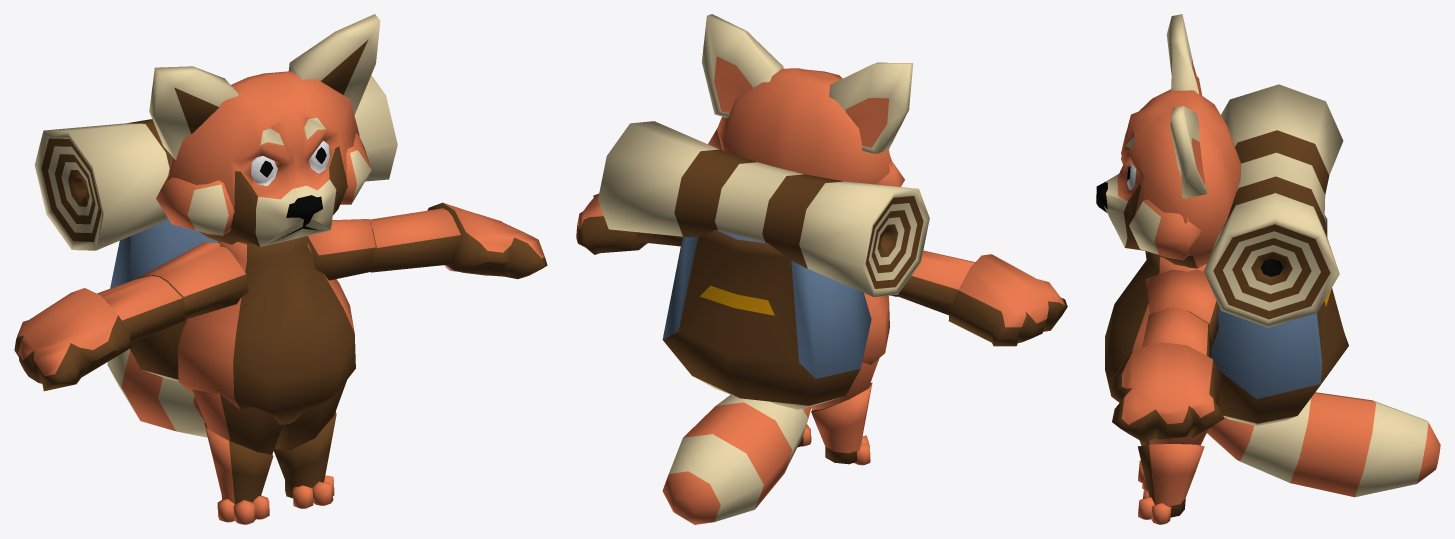
The model's file is GEO_Pim_03.fbx.
The picture shows the model from 3 angles, left to right: view 1: azimuth 30°, elevation 25°; view 2: azimuth 150°, elevation 25°; view 3: azimuth 270°, elevation 25°; orthographic projection. The views are drawn at different scales.
Visible parts, largest first — view 1: Pim_Head, Pim_Body, Pim_Bag, Pim_Right_Hand, Pim_Left_Hand, Pim_Left_Forearm.001, Pim_Right_Arm, Pim_Tail, Pim_Right_Right, Pim_Right_Forearm, Pim_Left_Foot, Pim_Left_Arm (+2 smaller); view 2: Pim_Bag, Pim_Head, Pim_Tail, Pim_Right_Hand, Pim_Right_Right, Pim_Right_Forearm, Pim_Left_Hand, Pim_Body, Pim_Right_Leg; view 3: Pim_Bag, Pim_Head, Pim_Tail, Pim_Left_Hand, Pim_Left_Foot, Pim_Body, Pim_Left_Arm, Pim_Left_Forearm.001, Pim_Left_Leg.
Part boxes in pixels (x1=…): Pim_Head: x1=149, y1=14, x2=380, y2=247; Pim_Body: x1=178, y1=236, x2=355, y2=424; Pim_Bag: x1=34, y1=75, x2=397, y2=381; Pim_Right_Hand: x1=14, y1=288, x2=131, y2=391; Pim_Left_Hand: x1=427, y1=202, x2=547, y2=279; Pim_Left_Forearm.001: x1=370, y1=208, x2=460, y2=272; Pim_Right_Arm: x1=137, y1=242, x2=248, y2=319; Pim_Tail: x1=107, y1=349, x2=207, y2=437; Pim_Right_Right: x1=204, y1=423, x2=273, y2=524; Pim_Right_Forearm: x1=97, y1=275, x2=185, y2=343; Pim_Left_Foot: x1=274, y1=411, x2=336, y2=508; Pim_Left_Arm: x1=307, y1=219, x2=375, y2=280; Pim_Bag: x1=598, y1=121, x2=929, y2=409; Pim_Head: x1=702, y1=14, x2=913, y2=186; Pim_Tail: x1=662, y1=394, x2=811, y2=524; Pim_Right_Hand: x1=948, y1=254, x2=1067, y2=346; Pim_Right_Right: x1=811, y1=382, x2=872, y2=465; Pim_Right_Forearm: x1=898, y1=250, x2=974, y2=315; Pim_Left_Hand: x1=576, y1=193, x2=647, y2=254; Pim_Body: x1=862, y1=293, x2=889, y2=364; Pim_Right_Leg: x1=811, y1=331, x2=888, y2=410; Pim_Bag: x1=1204, y1=84, x2=1348, y2=425; Pim_Head: x1=1096, y1=14, x2=1240, y2=268; Pim_Tail: x1=1207, y1=392, x2=1440, y2=497; Pim_Left_Hand: x1=1111, y1=342, x2=1224, y2=442; Pim_Left_Foot: x1=1137, y1=444, x2=1204, y2=524; Pim_Body: x1=1105, y1=252, x2=1206, y2=402; Pim_Left_Arm: x1=1146, y1=269, x2=1218, y2=345; Pim_Left_Forearm.001: x1=1142, y1=308, x2=1211, y2=357; Pim_Left_Leg: x1=1139, y1=429, x2=1208, y2=445.
Bounding box in the file's own units: 434 × 375 × 269.
